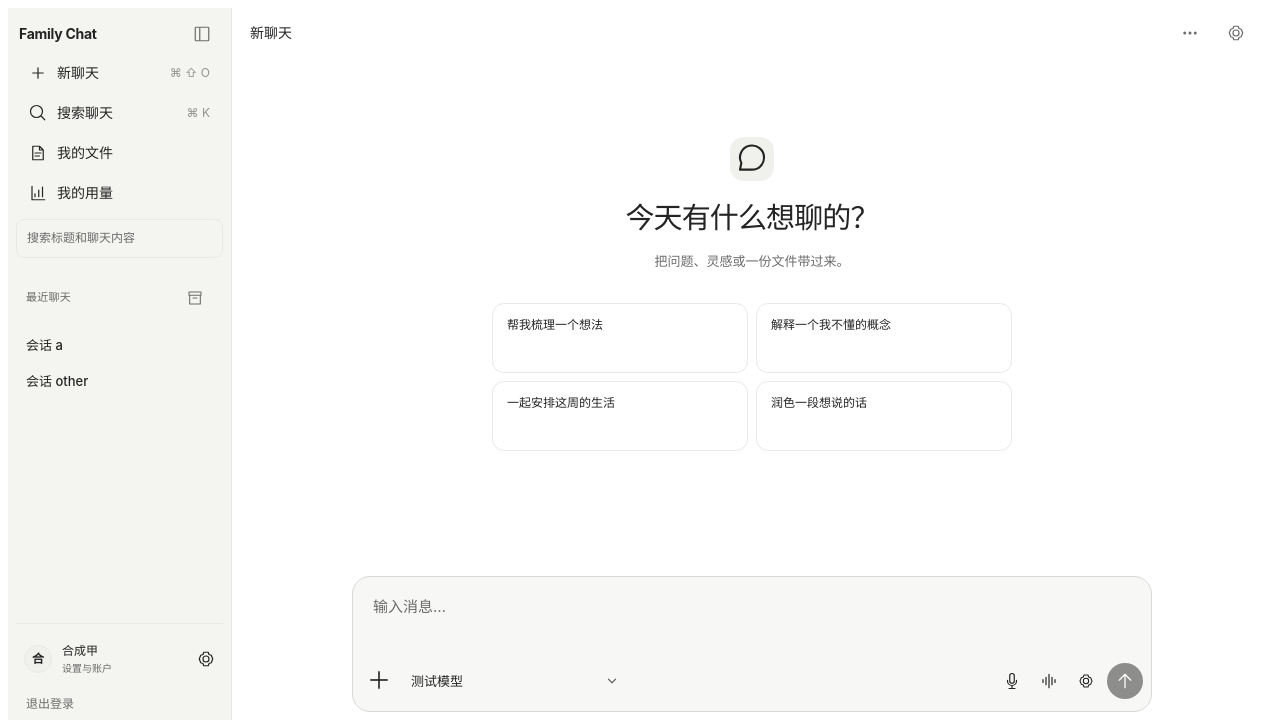
Test case: a late file library response from another account is discarded after cross-tab login
Click the button "会话 a" at (120, 345), box [16, 328, 223, 362]
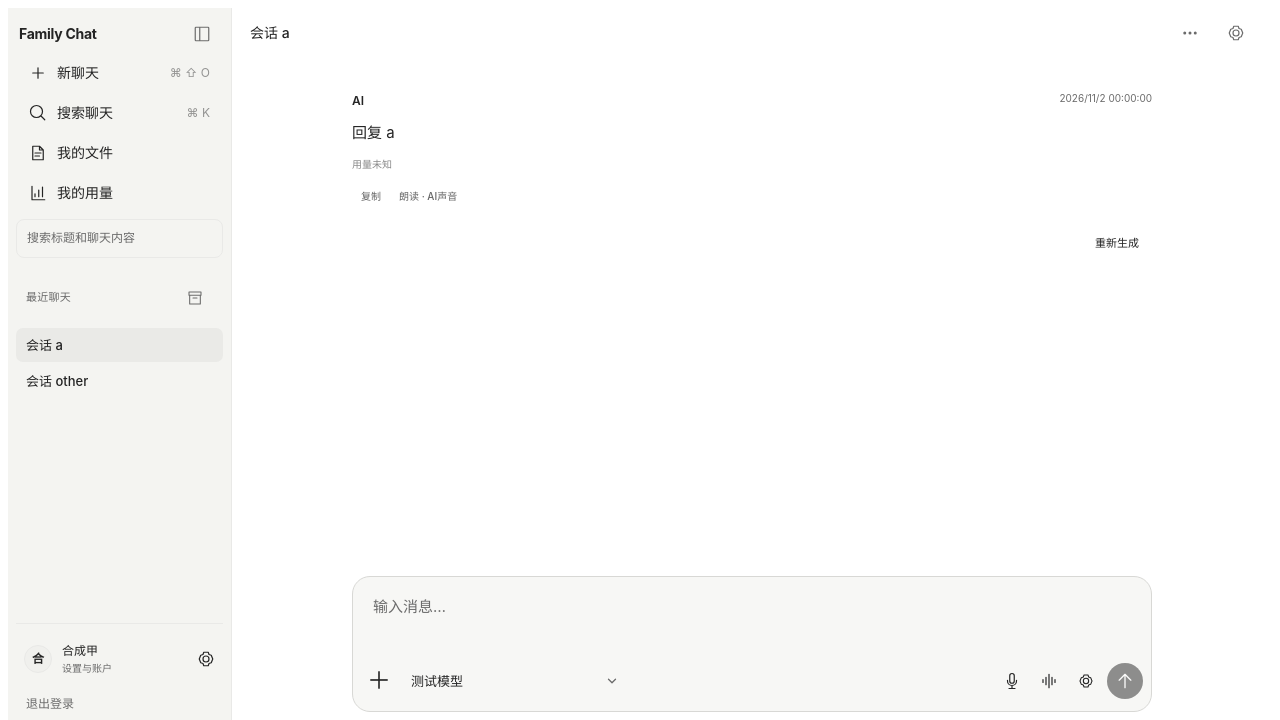
Expected: the text box named "发送消息" is enabled, [361, 585, 1143, 653]
Click the button "我的文件" at (120, 153), box [19, 136, 220, 170]
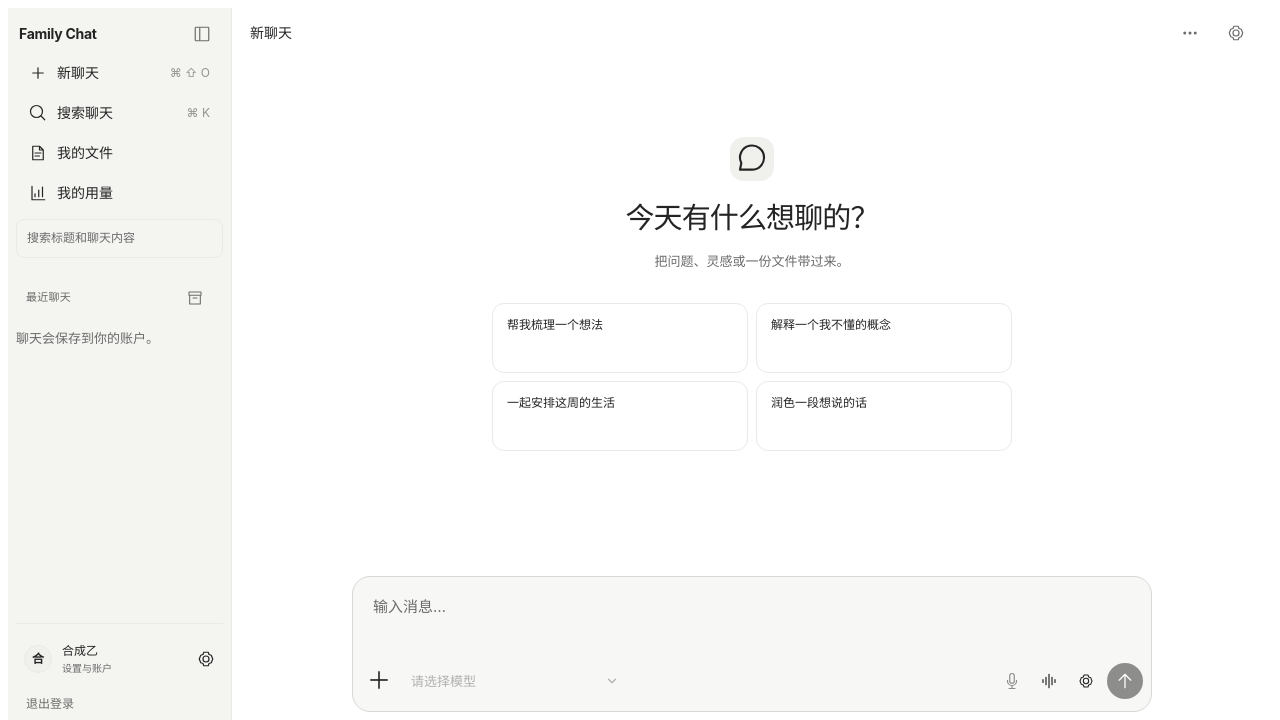
Expected: the text "合成乙" is shown, [62, 643, 98, 658]
Click the button "我的文件" at (120, 153), box [19, 136, 220, 170]
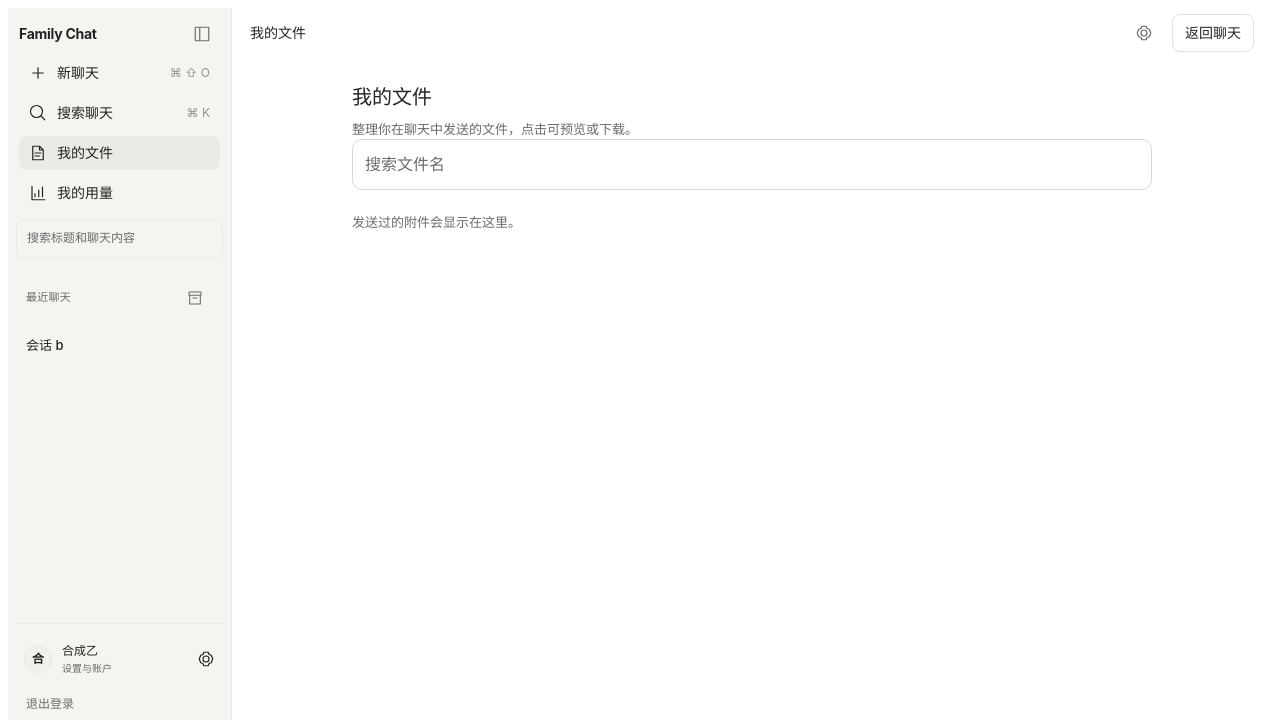
Expected: the text "发送过的附件会显示在这里。" is shown, [352, 214, 521, 230]
